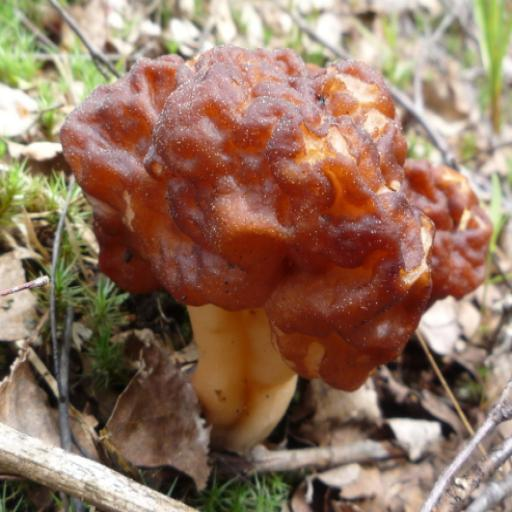mushroom: (56, 40, 495, 410)
